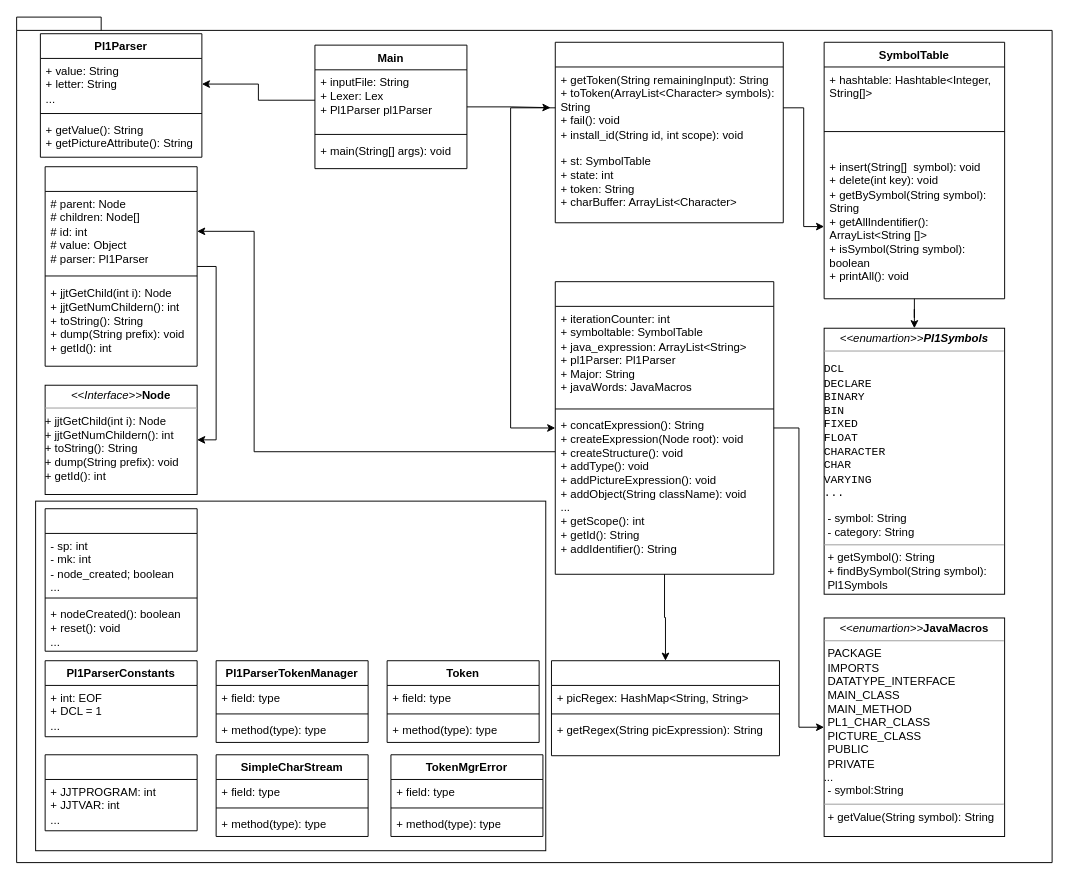
The diagram is 1069 pixels wide and 879 high, and some of its shapes have lost their labels. Each missing label, with the box of its shape:
JavaGenerator: (554, 281, 774, 574)
JJTPl1ParserState: (44, 508, 197, 651)
Lexer: (554, 41, 783, 223)
PictureMapper: (551, 660, 779, 756)
Pl1ParserTreeConstant: (44, 754, 197, 831)
SimpleNode: (44, 166, 197, 366)
